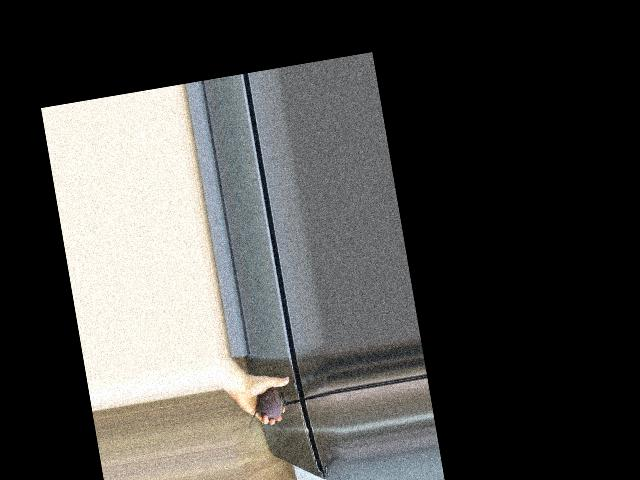beet: (243, 386, 290, 436)
